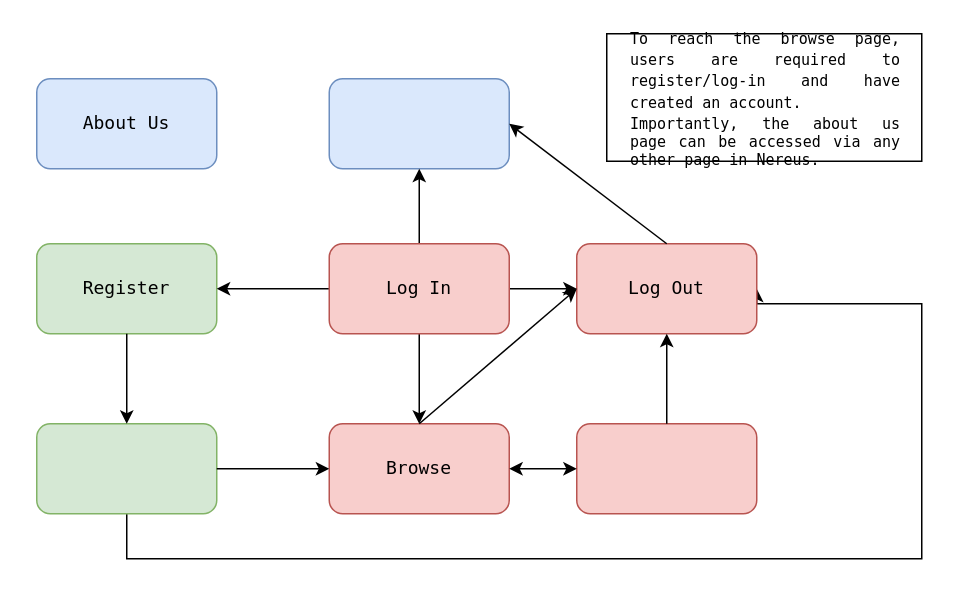
This 960x597 diagram has some shape labels left out. The shapes that lost their labels are listed below. From the top down, each one's centre as x and y in pixels, then its label:
(x=418, y=123): Home
(x=126, y=468): Create Profile
(x=666, y=468): Edit Profile
